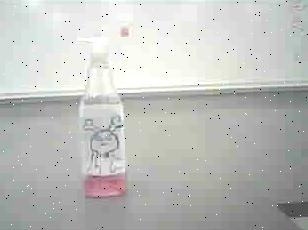hazard: (72, 24, 136, 203)
